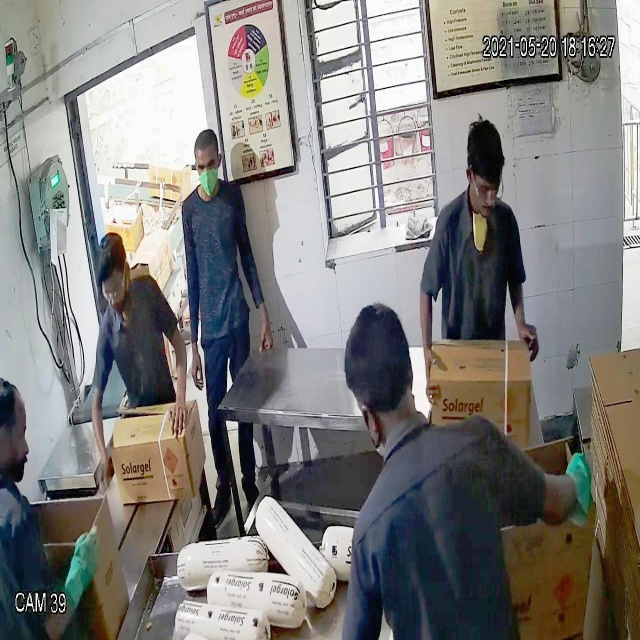Gafas: (466, 164, 508, 211)
